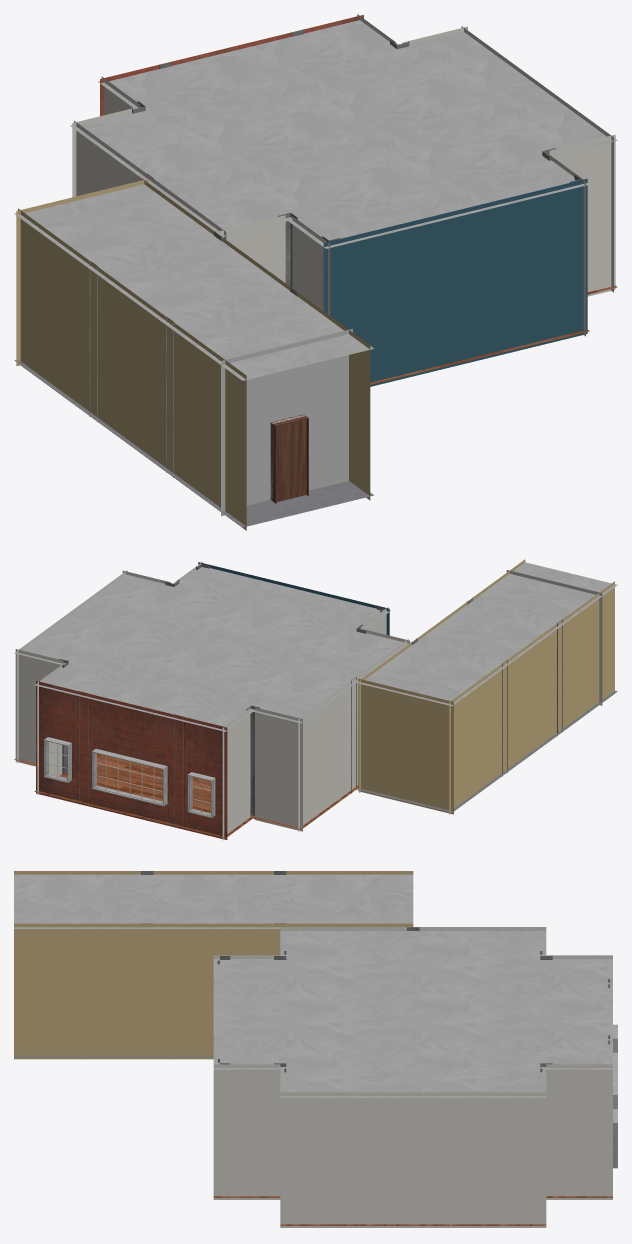
File: room2.glb
3 views of the same model, one above another, from view 1: azimuth 30°, elevation 25°; view 2: azimuth 150°, elevation 25°; view 3: azimuth 270°, elevation 25° (orthographic). The views are drawn at different scales.
Parts seen in each view (by area): view 1: ConfRoom_lambert1_0; view 2: ConfRoom_lambert1_0; view 3: ConfRoom_lambert1_0.
Part boxes in pixels (x1,y1,x2,y2): ConfRoom_lambert1_0: [14, 14, 617, 530]; ConfRoom_lambert1_0: [14, 559, 617, 840]; ConfRoom_lambert1_0: [14, 871, 617, 1227].
Size of the model in its own units: 16 by 4.5 by 18.15.
1 material, 1 textured.
